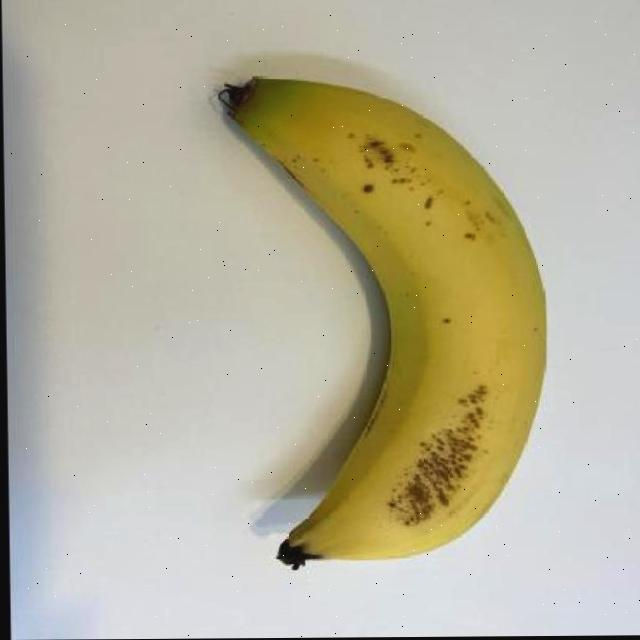banana: (215, 72, 559, 571)
